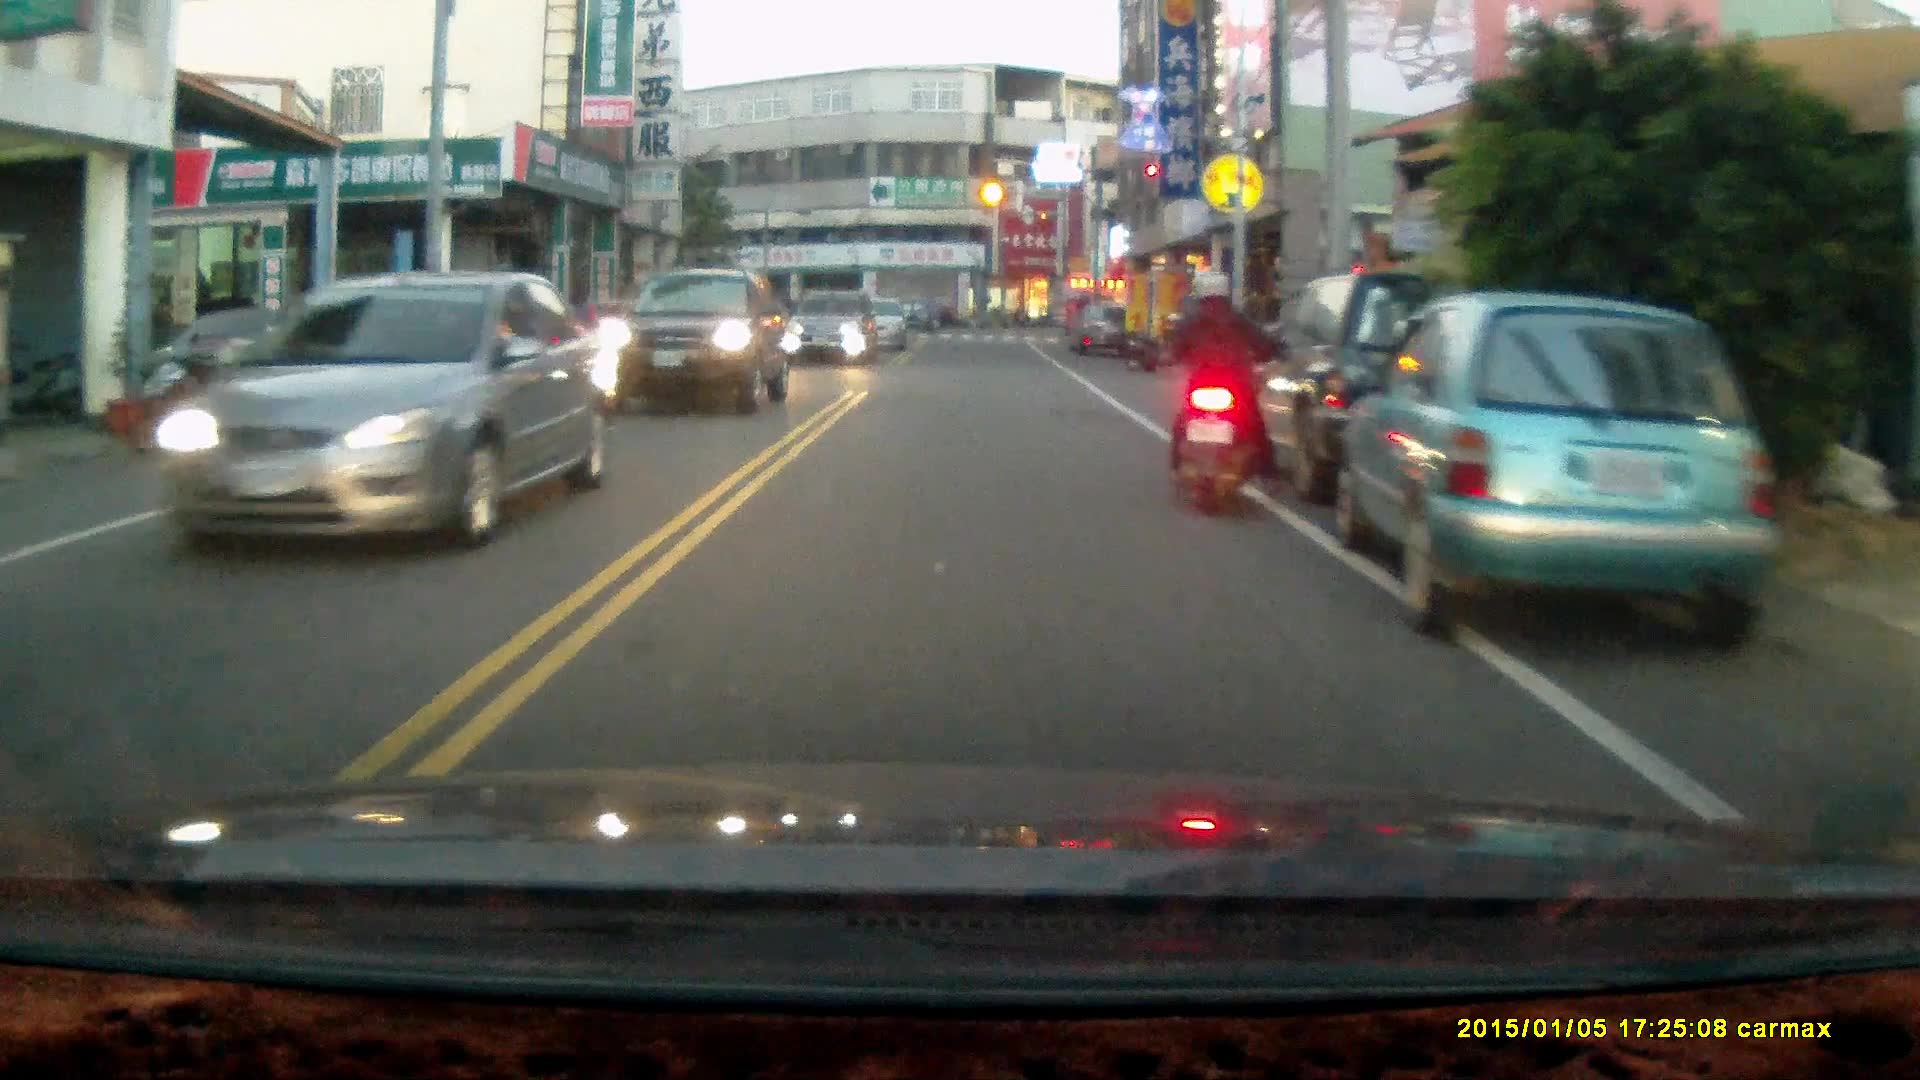rider: (1162, 266, 1278, 517)
vehicle: (1336, 290, 1785, 645), (146, 271, 606, 556), (1212, 269, 1566, 506), (602, 267, 792, 416), (781, 289, 881, 366), (1066, 301, 1136, 358)
